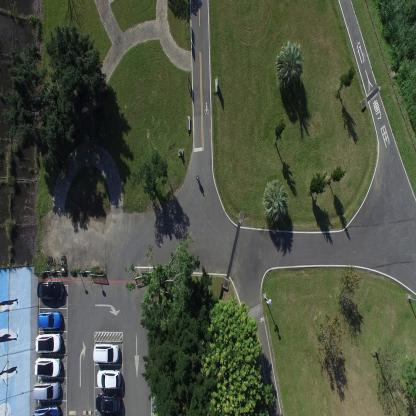car: (35, 330, 62, 355), (92, 341, 120, 364), (33, 356, 61, 378), (95, 391, 121, 413), (36, 280, 64, 300), (33, 380, 61, 400), (152, 394, 178, 414), (97, 368, 121, 389), (37, 310, 63, 329), (32, 403, 60, 415)
